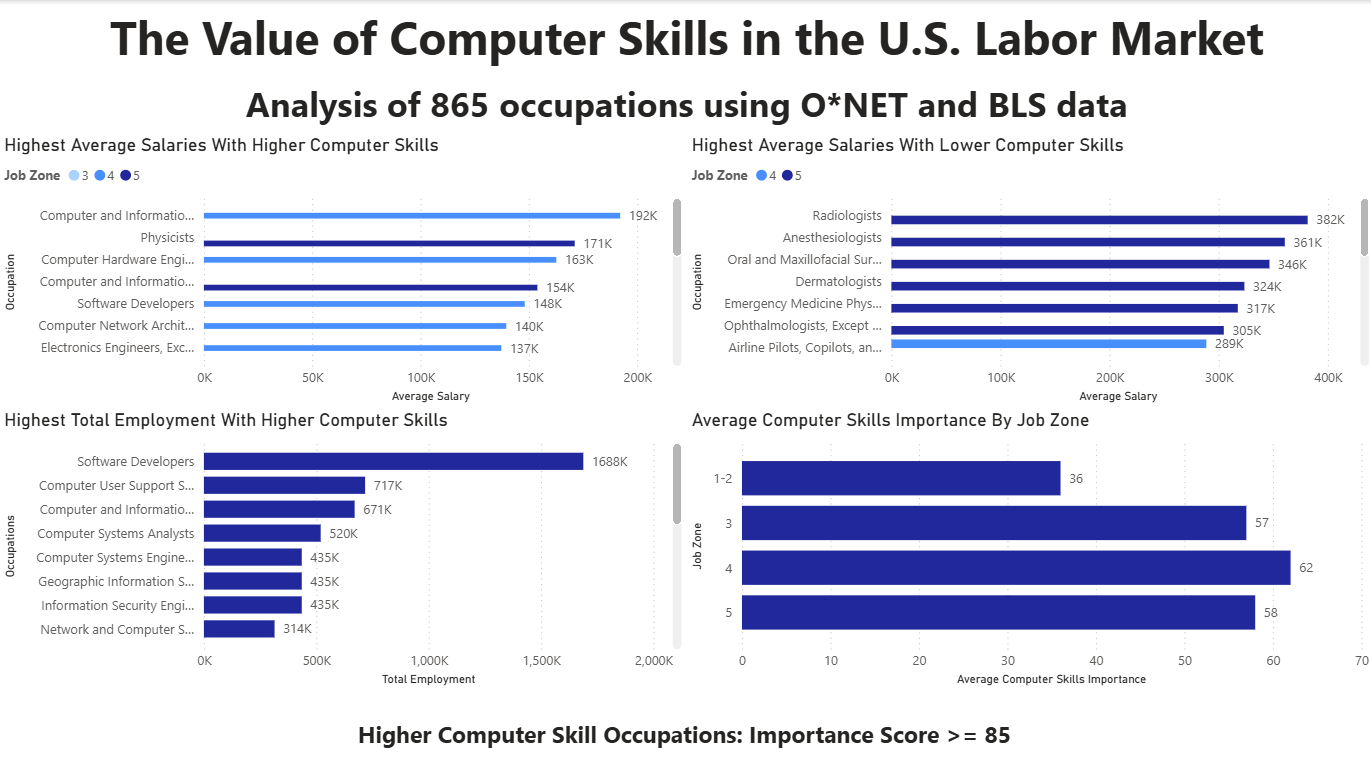

What the dashboard file says about the page in this screenshot:
{"tool":"powerbi","page":{"name":"Page 1","canvas":[1280,720],"ordinal":0},"visuals":[{"type":"clusteredBarChart","title":"Highest Average Salaries With Higher Computer Skills ","fields":{"Y":["Avg(INSIGHT_SALARY.MEAN_SALARY)"],"Category":["INSIGHT_SALARY.OCCUPATION_NAME"],"Series":["INSIGHT_SALARY.JOB_ZONE"]},"box":[0,125,640,255],"z":0},{"type":"clusteredBarChart","title":"Highest Average Salaries With Lower Computer Skills ","fields":{"Category":["INSIGHT_NON_COMP.OCCUPATION_NAME"],"Y":["Sum(INSIGHT_NON_COMP.MEAN_SALARY)"],"Series":["INSIGHT_NON_COMP.JOB_ZONE"]},"box":[640,125,640,255],"z":1000},{"type":"clusteredBarChart","title":"Highest Total Employment With Higher Computer Skills","fields":{"Y":["Sum(INSIGHT_EMPLOYMENT.TOTAL_EMPLOYMENT)"],"Category":["INSIGHT_EMPLOYMENT.OCCUPATION_NAME"]},"box":[0,380,640,262.5],"z":2000},{"type":"clusteredBarChart","title":"Average Computer Skills Importance By Job Zone","fields":{"Y":["Avg(INSIGHT_ZONE_VS_SKILL.AVG_SKILL_IMPORTANCE)"],"Category":["INSIGHT_ZONE_VS_SKILL.JOB_ZONE"]},"box":[640,380,640,262.5],"z":3000},{"type":"textbox","box":[85,0,1110,70],"z":4000},{"type":"textbox","box":[210,70,858.8,55],"z":5000},{"type":"textbox","box":[260,662.5,760,46.2],"z":6000}]}

Visuals, with their boxes in screenshot pixels (x1, y1, x2, y2), scaled from the page's 1280x720 canvas onto the 1371x772 screenshot:
"Highest Average Salaries With Higher Computer Skills " clusteredBarChart: bbox(0, 134, 686, 407)
"Highest Average Salaries With Lower Computer Skills " clusteredBarChart: bbox(686, 134, 1370, 407)
"Highest Total Employment With Higher Computer Skills" clusteredBarChart: bbox(0, 407, 686, 689)
"Average Computer Skills Importance By Job Zone" clusteredBarChart: bbox(686, 407, 1370, 689)
textbox: bbox(91, 0, 1280, 75)
textbox: bbox(225, 75, 1145, 134)
textbox: bbox(278, 710, 1093, 760)
